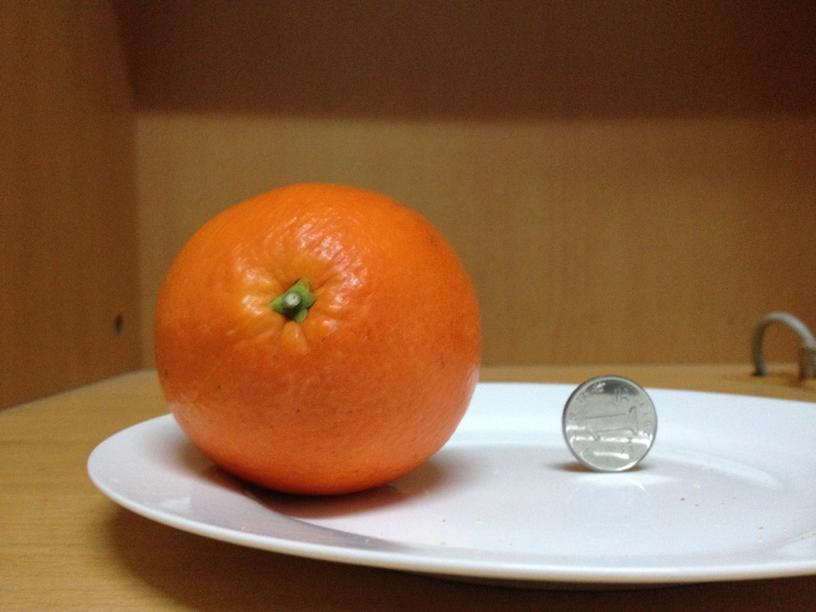coin: (560, 372, 657, 472)
orange: (159, 186, 483, 492)
